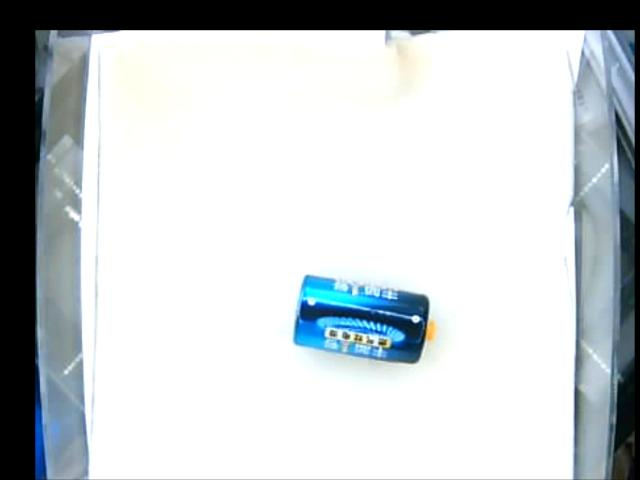Battery: (290, 272, 438, 366)
